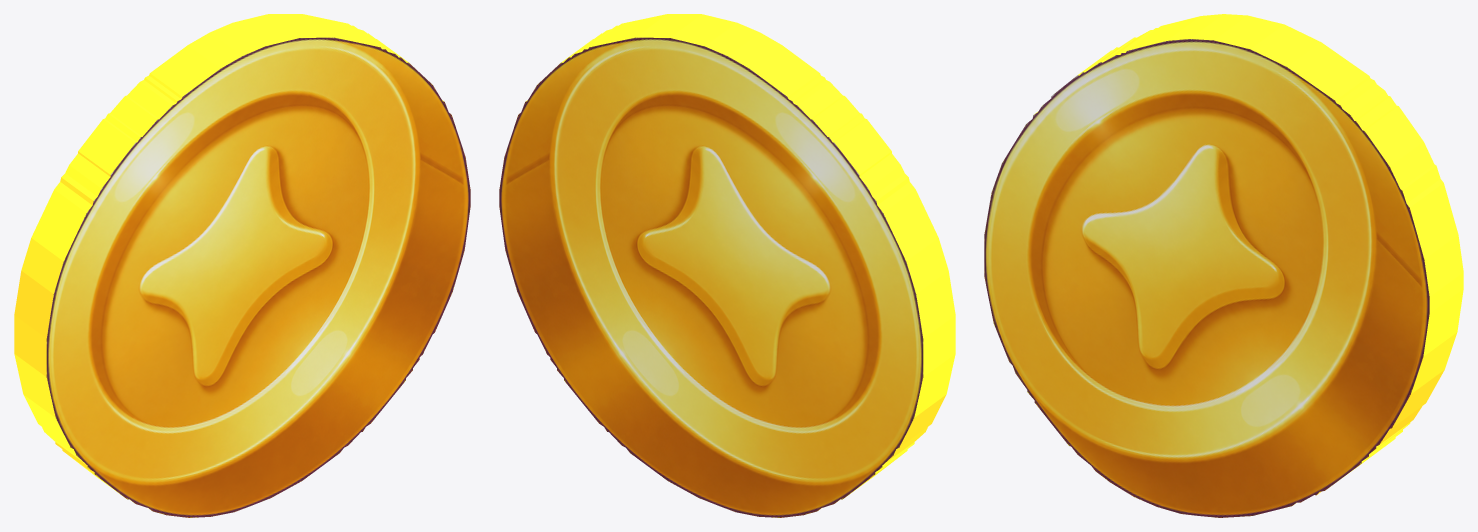
The model's file is icon_gold.glb.
The picture shows the model from 3 angles, left to right: view 1: azimuth 30°, elevation 25°; view 2: azimuth 150°, elevation 25°; view 3: azimuth 330°, elevation 25°; orthographic projection. The views are drawn at different scales.
Parts seen in each view (by area): view 1: IconRoot; view 2: IconRoot; view 3: IconRoot.
Part boxes in pixels (left/top/right/bottom): IconRoot: left=14, top=14, right=470, bottom=517; IconRoot: left=499, top=14, right=955, bottom=517; IconRoot: left=984, top=14, right=1463, bottom=517.
Size of the model in its own units: 1.66 by 1.71 by 0.22.
Materials: 2 (1 with a texture image).
